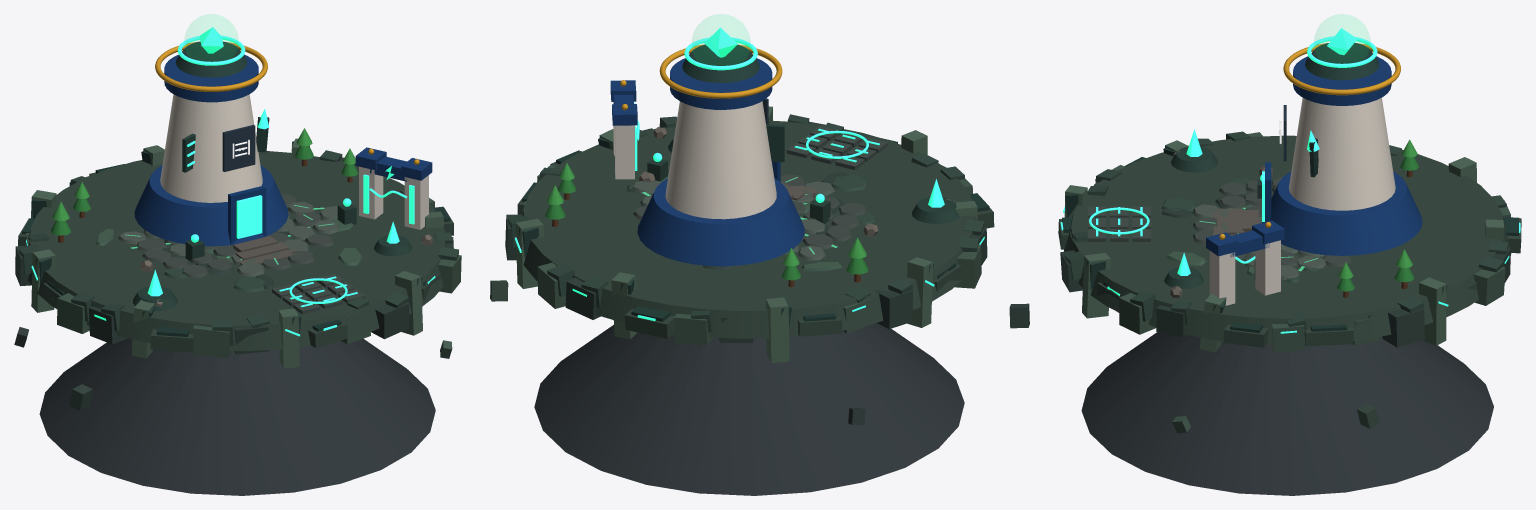
The model's file is island-05-parallel__static.glb.
3 renders of one model, left to right at view 1: azimuth 30°, elevation 25°; view 2: azimuth 150°, elevation 25°; view 3: azimuth 270°, elevation 25°, orthographic. The views are drawn at different scales.
Visible parts, largest first — view 1: I05_BASE, I05_EMERALD_SURFACE, I05_TOWER, I05_EDGE_ROCKS, I05_STONE_PLAZA, I05_PORTAL, I05_METAL_PATH, I05_TREES, I05_CRYSTALS, I05_FLOATING_SHARDS, I05_GREEN_MARKERS; view 2: I05_BASE, I05_EMERALD_SURFACE, I05_TOWER, I05_EDGE_ROCKS, I05_STONE_PLAZA, I05_PORTAL, I05_METAL_PATH, I05_TREES, I05_CRYSTALS, I05_FLOATING_SHARDS, I05_GREEN_MARKERS, object 16; view 3: I05_BASE, I05_EMERALD_SURFACE, I05_TOWER, I05_EDGE_ROCKS, I05_PORTAL, I05_STONE_PLAZA, I05_CRYSTALS, I05_METAL_PATH, I05_TREES, I05_FLOATING_SHARDS.
Boxes of the visible parts, left/top/right/bottom form: I05_BASE: left=39, top=338, right=435, bottom=495; I05_EMERALD_SURFACE: left=25, top=151, right=445, bottom=351; I05_TOWER: left=134, top=14, right=300, bottom=266; I05_EDGE_ROCKS: left=15, top=138, right=461, bottom=368; I05_STONE_PLAZA: left=118, top=194, right=338, bottom=277; I05_PORTAL: left=355, top=147, right=432, bottom=229; I05_METAL_PATH: left=272, top=273, right=365, bottom=314; I05_TREES: left=51, top=128, right=358, bottom=242; I05_CRYSTALS: left=132, top=221, right=412, bottom=311; I05_FLOATING_SHARDS: left=14, top=327, right=452, bottom=411; I05_GREEN_MARKERS: left=185, top=198, right=356, bottom=262; I05_BASE: left=534, top=323, right=964, bottom=495; I05_EMERALD_SURFACE: left=522, top=120, right=978, bottom=338; I05_TOWER: left=637, top=14, right=818, bottom=266; I05_EDGE_ROCKS: left=505, top=106, right=994, bottom=362; I05_STONE_PLAZA: left=632, top=174, right=867, bottom=260; I05_PORTAL: left=610, top=80, right=639, bottom=179; I05_METAL_PATH: left=786, top=126, right=887, bottom=169; I05_TREES: left=545, top=163, right=868, bottom=287; I05_CRYSTALS: left=668, top=137, right=959, bottom=223; I05_FLOATING_SHARDS: left=490, top=280, right=1029, bottom=425; I05_GREEN_MARKERS: left=647, top=152, right=830, bottom=223; object 16: left=766, top=124, right=784, bottom=162; I05_BASE: left=1081, top=332, right=1493, bottom=495; I05_EMERALD_SURFACE: left=1064, top=135, right=1511, bottom=344; I05_TOWER: left=1213, top=14, right=1422, bottom=255; I05_EDGE_ROCKS: left=1058, top=131, right=1521, bottom=352; I05_PORTAL: left=1206, top=220, right=1284, bottom=305; I05_STONE_PLAZA: left=1193, top=177, right=1351, bottom=280; I05_CRYSTALS: left=1164, top=129, right=1217, bottom=288; I05_METAL_PATH: left=1087, top=206, right=1150, bottom=241; I05_TREES: left=1337, top=139, right=1419, bottom=297; I05_FLOATING_SHARDS: left=1172, top=404, right=1379, bottom=433.
Bounding box in the file's own units: 9.59 × 8.34 × 8.93.
